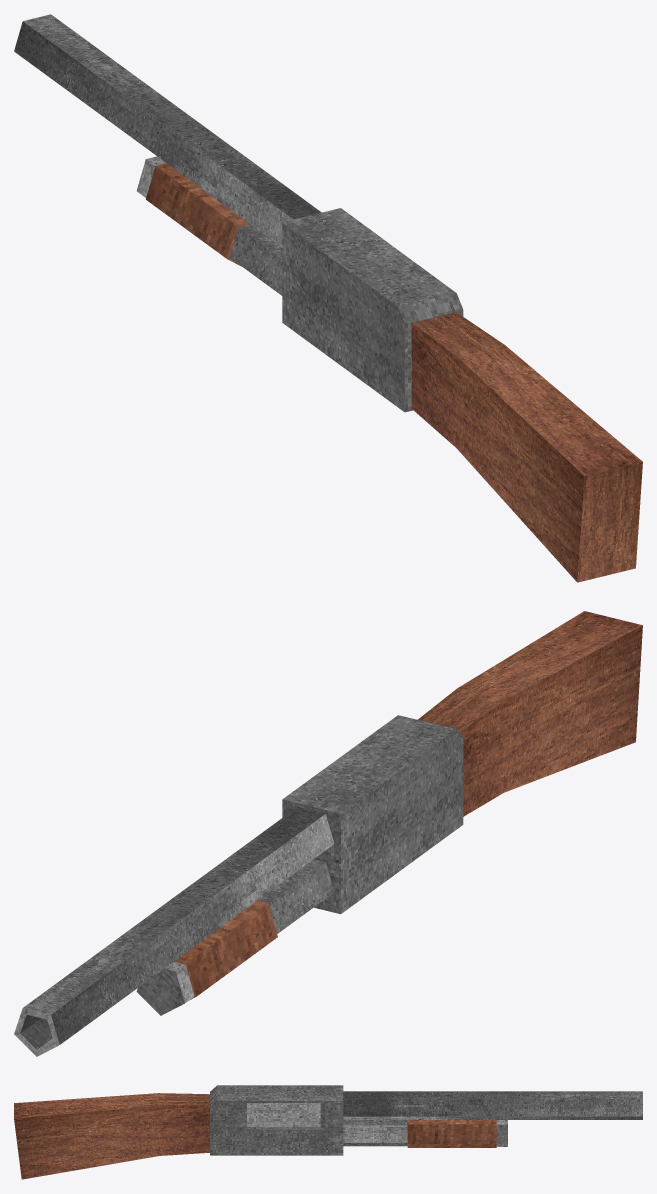
File: shotgun.glb
3 views of the same model, one above another, from view 1: azimuth 30°, elevation 25°; view 2: azimuth 150°, elevation 25°; view 3: azimuth 270°, elevation 25° (orthographic). The views are drawn at different scales.
Visible parts, largest first — view 1: shotgun, pump; view 2: shotgun, pump; view 3: shotgun, pump, eject.
Part boxes in pixels (<box>): shotgun: <box>14,14,642,582</box>; pump: <box>145,163,249,266</box>; shotgun: <box>14,611,642,1056</box>; pump: <box>174,900,277,1000</box>; shotgun: <box>14,1085,642,1179</box>; pump: <box>407,1120,496,1147</box>; eject: <box>247,1103,320,1126</box>.
Size of the model in its own units: 1.09 by 2.57 by 18.58.
Materials: 1 (1 with a texture image).
